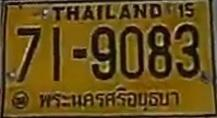0: (119, 25, 143, 78)
1: (52, 26, 59, 80)
3: (174, 23, 199, 76)
7: (16, 27, 40, 81)
8: (148, 24, 171, 77)
9: (91, 26, 115, 79)
AYA: (38, 84, 181, 113)
